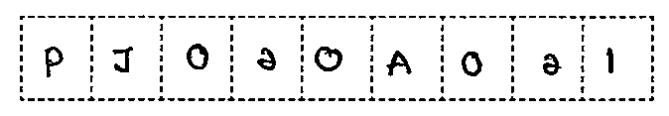0: (178, 36, 216, 78), (310, 41, 348, 77), (454, 48, 491, 84)
1: (598, 40, 626, 80)
2: (535, 48, 567, 84), (252, 43, 286, 75)
A: (382, 46, 418, 84)
J: (103, 41, 140, 78)
P: (38, 39, 69, 82)
